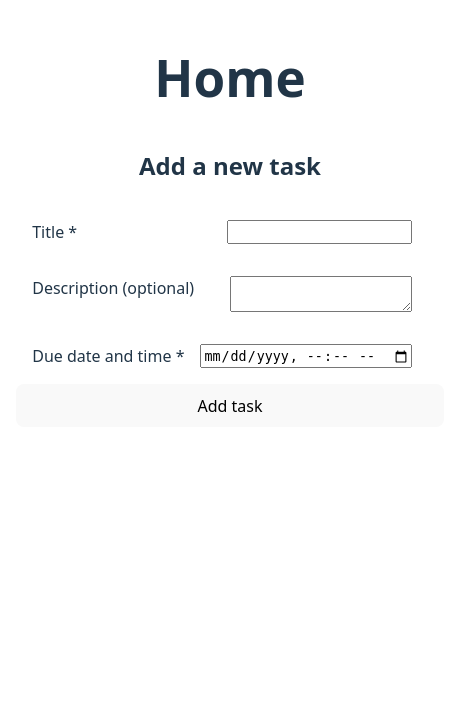
Test: Home page › submits and displays valid data
The image size is (460, 727).
Type "A mock task" into the field labelled "Title *" at x=319, y=232, box [227,220,412,244]
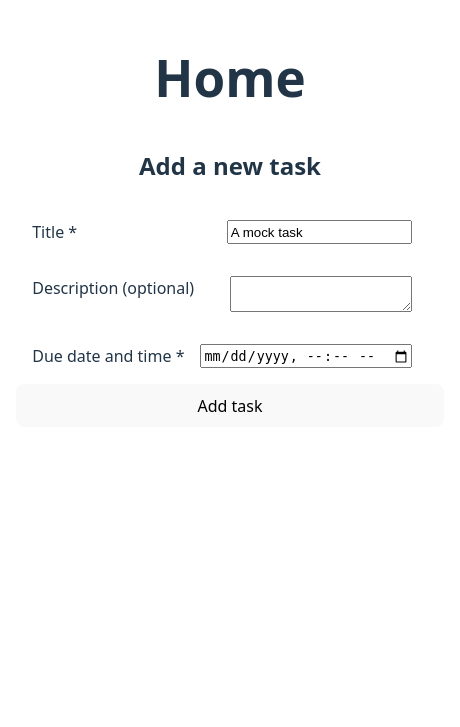
Type "A description of a mock task" into the text box labelled "Description (optional)" at x=321, y=294, box [230,276,412,312]
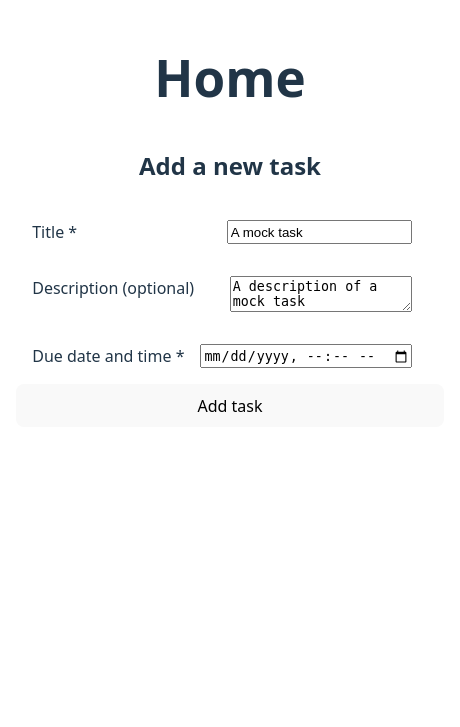
Type "2025-12-19T12:00" into the field labelled "Due date and time *" at x=306, y=356, box [200,344,412,368]
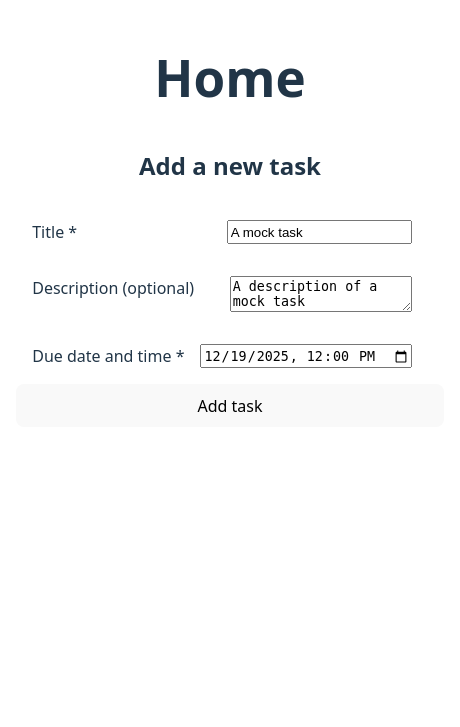
Click the button "Add task" at x=230, y=406, box [16,384,444,427]
(page scrolled)
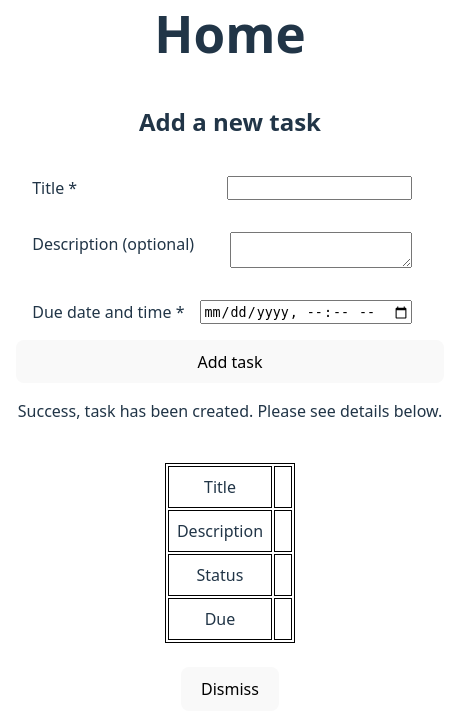
Check: the text "Success, task has been created. Please see details below." is shown, box [16,399,444,423]
Check: the table is shown, box [165,463,295,643]
Check: the button "Dismiss" is shown, box [181,667,279,711]
